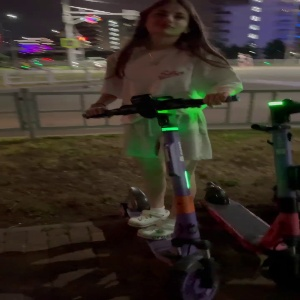human on a scooter: (81, 1, 244, 300)
